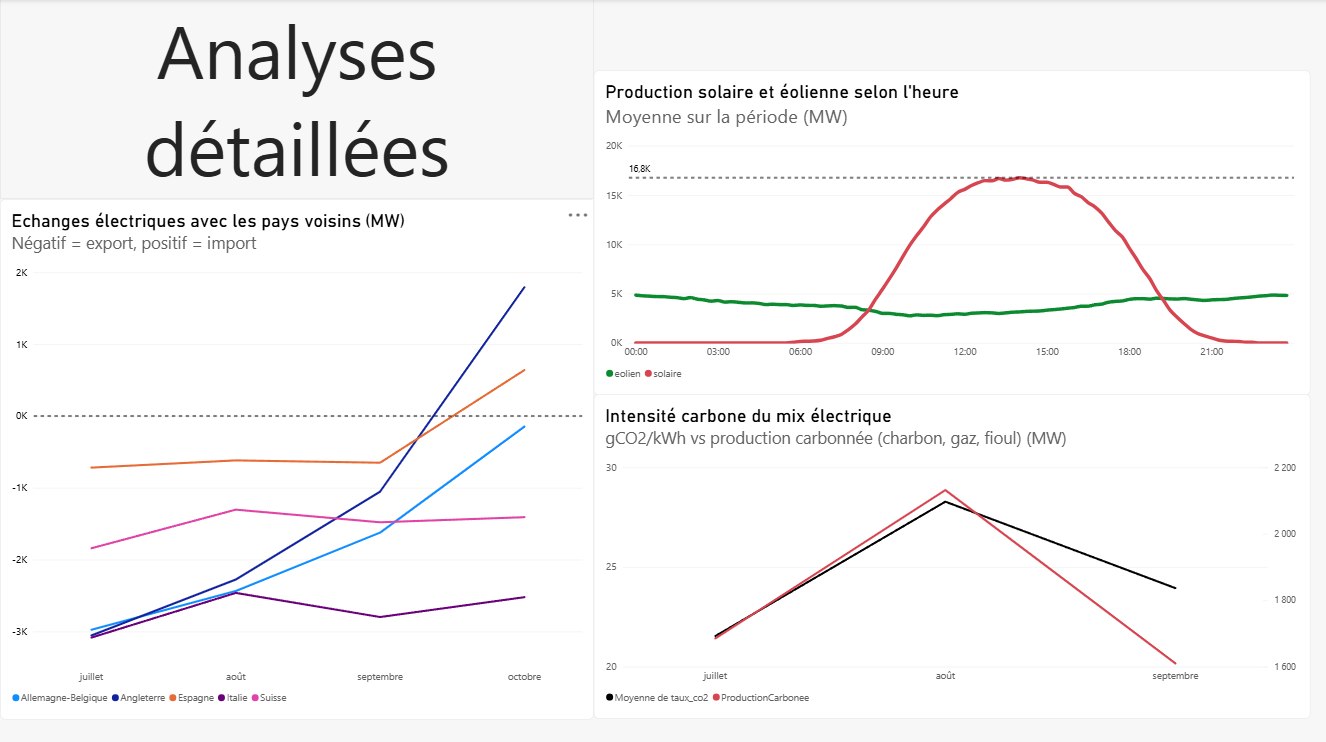

What the dashboard file says about the page in this screenshot:
{"tool":"powerbi","page":{"name":"Analyses détaillées","canvas":[1920,1080],"ordinal":1},"visuals":[{"type":"lineChart","title":"Production solaire et éolienne selon l''heure","fields":{"Category":["production_par_filiere.heure"],"Series":["production_par_filiere.filière"],"Y":["Avg(production_par_filiere.Valeur)"]},"box":[860,103.3,1037.5,470],"z":0},{"type":"lineChart","title":"Echanges électriques avec les pays voisins (MW)","fields":{"Category":["echanges_par_pays.date.Variation.Hiérarchie de dates.Année","echanges_par_pays.date.Variation.Hiérarchie de dates.Trimestre","echanges_par_pays.date.Variation.Hiérarchie de dates.Mois","echanges_par_pays.date.Variation.Hiérarchie de dates.Jour"],"Series":["echanges_par_pays.pays"],"Y":["Avg(echanges_par_pays.Valeur)"]},"box":[0,290,860,753.3],"z":1000},{"type":"lineChart","title":"Intensité carbone du mix électrique","fields":{"Category":["public eco2mix_national.date.Variation.Hiérarchie de dates.Année","public eco2mix_national.date.Variation.Hiérarchie de dates.Trimestre","public eco2mix_national.date.Variation.Hiérarchie de dates.Mois","public eco2mix_national.date.Variation.Hiérarchie de dates.Jour"],"Y":["Avg(public eco2mix_national.taux_co2)"],"Y2":["public eco2mix_national.ProductionCarbonee"]},"box":[860,572.5,1037.5,470],"z":2000},{"type":"textbox","box":[0,0,860,290],"z":3000}]}

Visuals, with their boxes in screenshot pixels (x1, y1, x2, y2), scaled from the page's 1920x1080 canvas onto the 1326x742 screenshot:
"Production solaire et éolienne selon l''heure" lineChart: {"x1": 594, "y1": 71, "x2": 1310, "y2": 394}
"Echanges électriques avec les pays voisins (MW)" lineChart: {"x1": 0, "y1": 199, "x2": 594, "y2": 717}
"Intensité carbone du mix électrique" lineChart: {"x1": 594, "y1": 393, "x2": 1310, "y2": 716}
textbox: {"x1": 0, "y1": 0, "x2": 594, "y2": 199}
